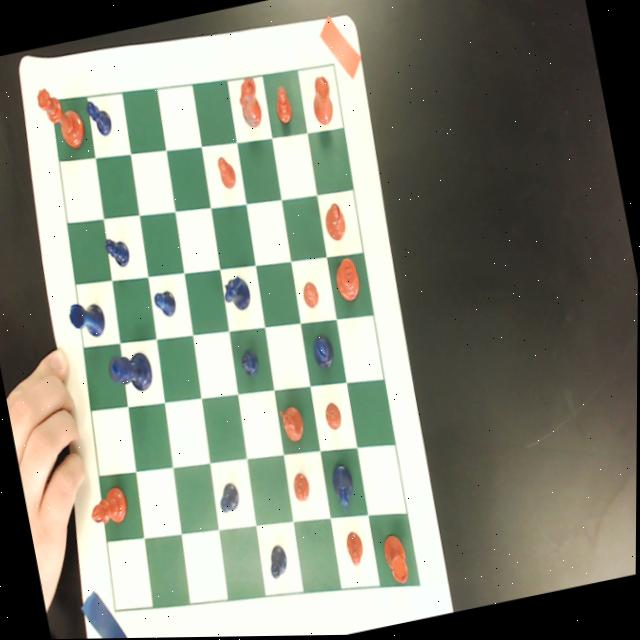B: (311, 333, 338, 374)
K: (107, 349, 156, 398)
N: (330, 463, 359, 517), (222, 276, 254, 316)
P: (83, 95, 114, 140), (104, 234, 133, 271), (266, 542, 292, 582), (217, 480, 243, 518), (239, 345, 262, 382), (152, 288, 178, 320)
R: (65, 297, 109, 343)
b: (87, 485, 131, 528), (323, 201, 350, 243)
k: (332, 256, 363, 306)
n: (234, 73, 266, 132), (278, 402, 310, 448)
p: (272, 84, 296, 128), (343, 529, 368, 570), (215, 154, 239, 192), (323, 401, 345, 433), (292, 473, 313, 504), (302, 281, 321, 311)
q: (36, 81, 88, 155)
r: (382, 534, 413, 587), (307, 74, 337, 128)
